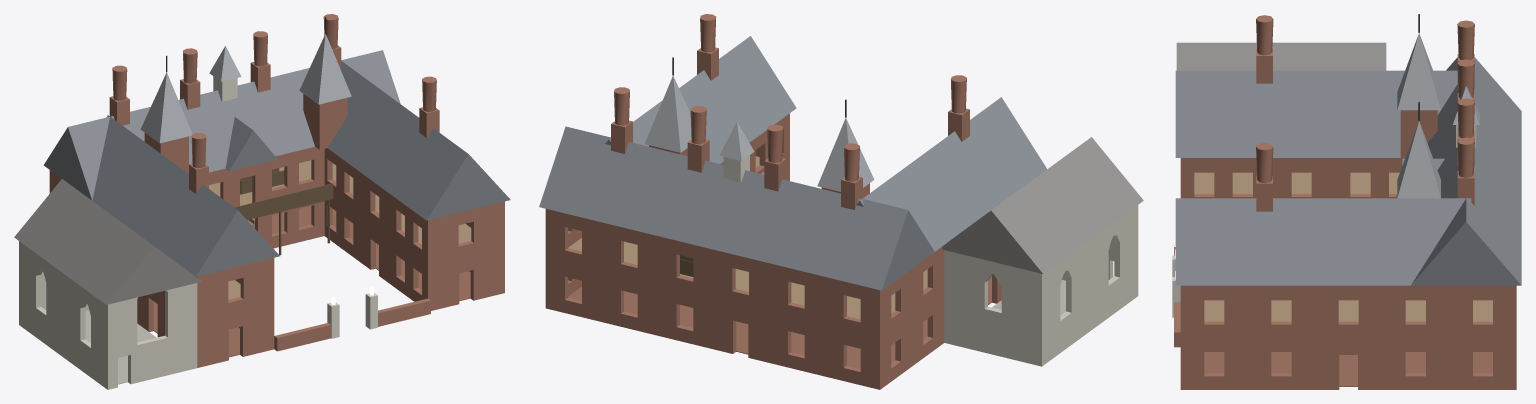
The model's file is fosters-almshouses.glb.
3 views of the same model, side by side, from view 1: azimuth 30°, elevation 25°; view 2: azimuth 150°, elevation 25°; view 3: azimuth 270°, elevation 25° (orthographic). The views are drawn at different scales.
Parts seen in each view (by area): view 1: Balcony balustrade; view 2: Balcony balustrade; view 3: Balcony balustrade.
Part boxes in pixels (<box>): Balcony balustrade: <box>14,14,510,389</box>; Balcony balustrade: <box>539,14,1143,389</box>; Balcony balustrade: <box>1172,14,1521,389</box>.
Size of the model in its own units: 31.55 by 16.2 by 20.8.
